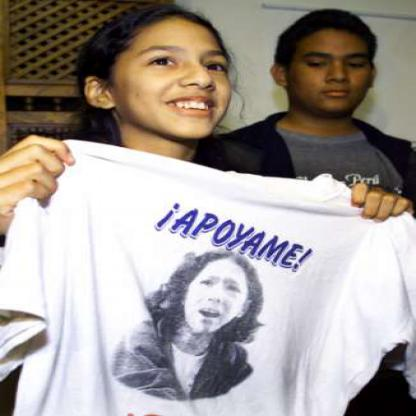face: (106, 9, 238, 146), (286, 15, 378, 116), (186, 256, 250, 339)
